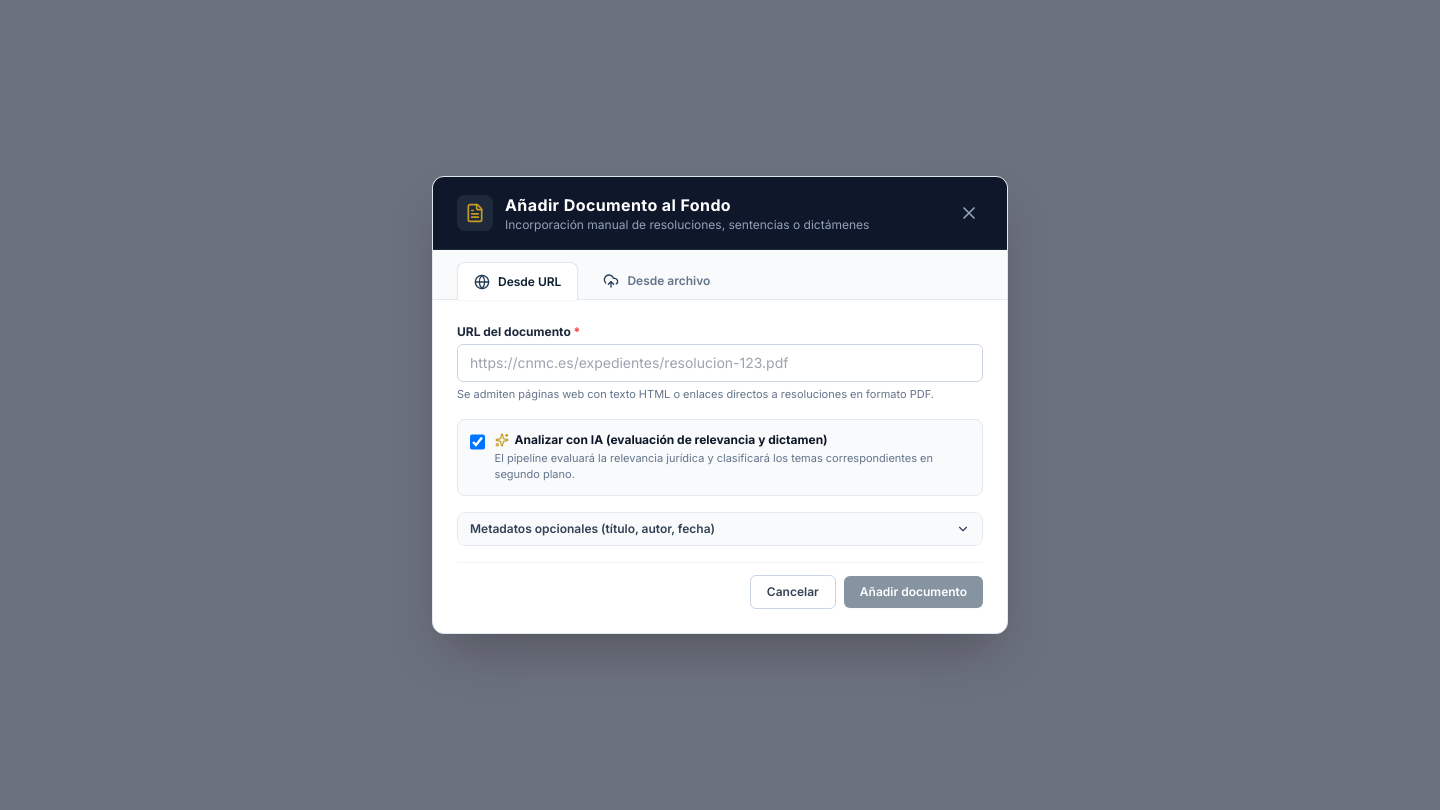
Test case: Manual Document Ingestion (Bloque 11C Frontend) › 5. URL inválida muestra validación al enviar
This screenshot has width=1440, height=810.
Step 1. Type "ftp://invalido.org" into the field labelled "URL del documento *" → (720, 363), box [457,344,983,382]
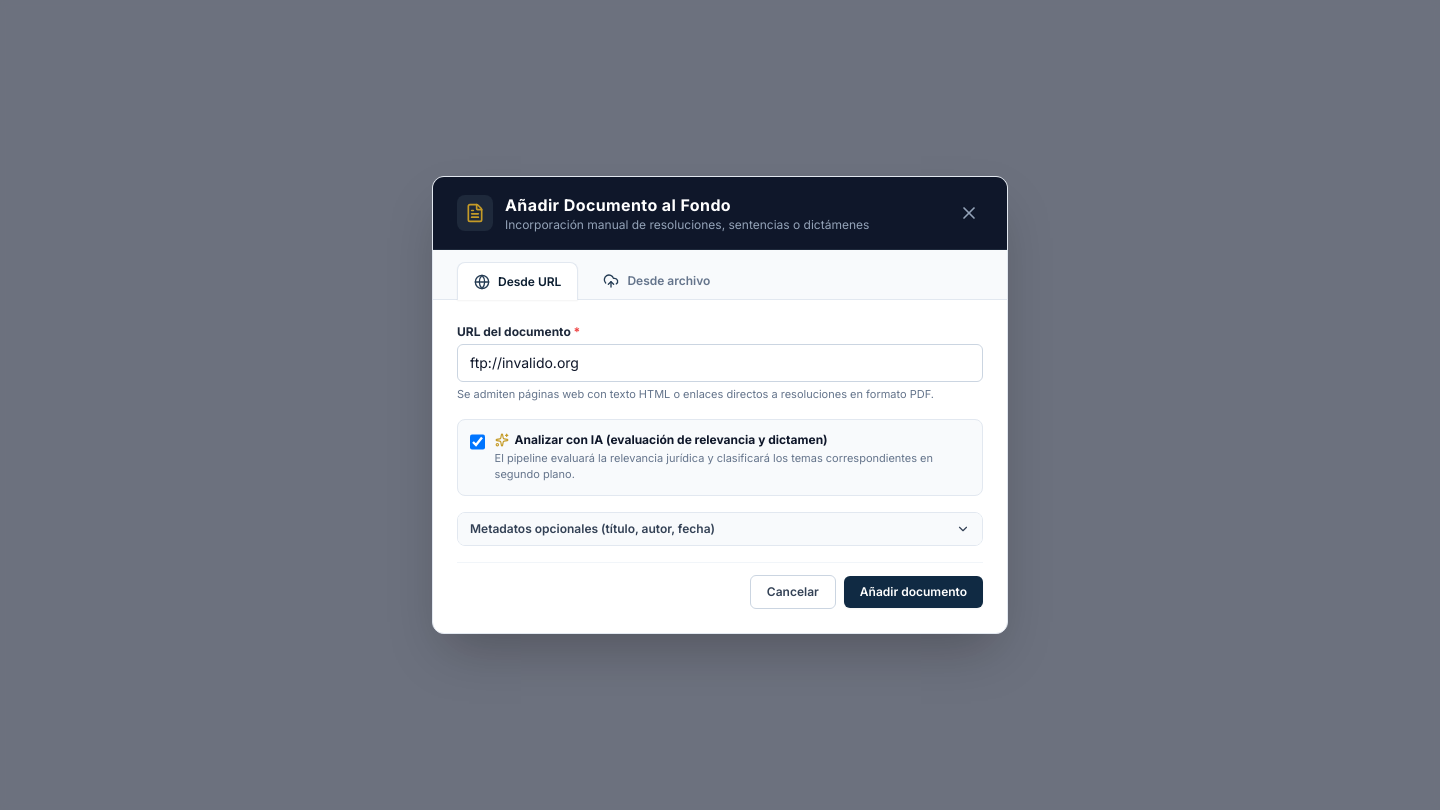
Step 2. Click the button "Añadir documento" → (913, 592), box [844,576,983,608]
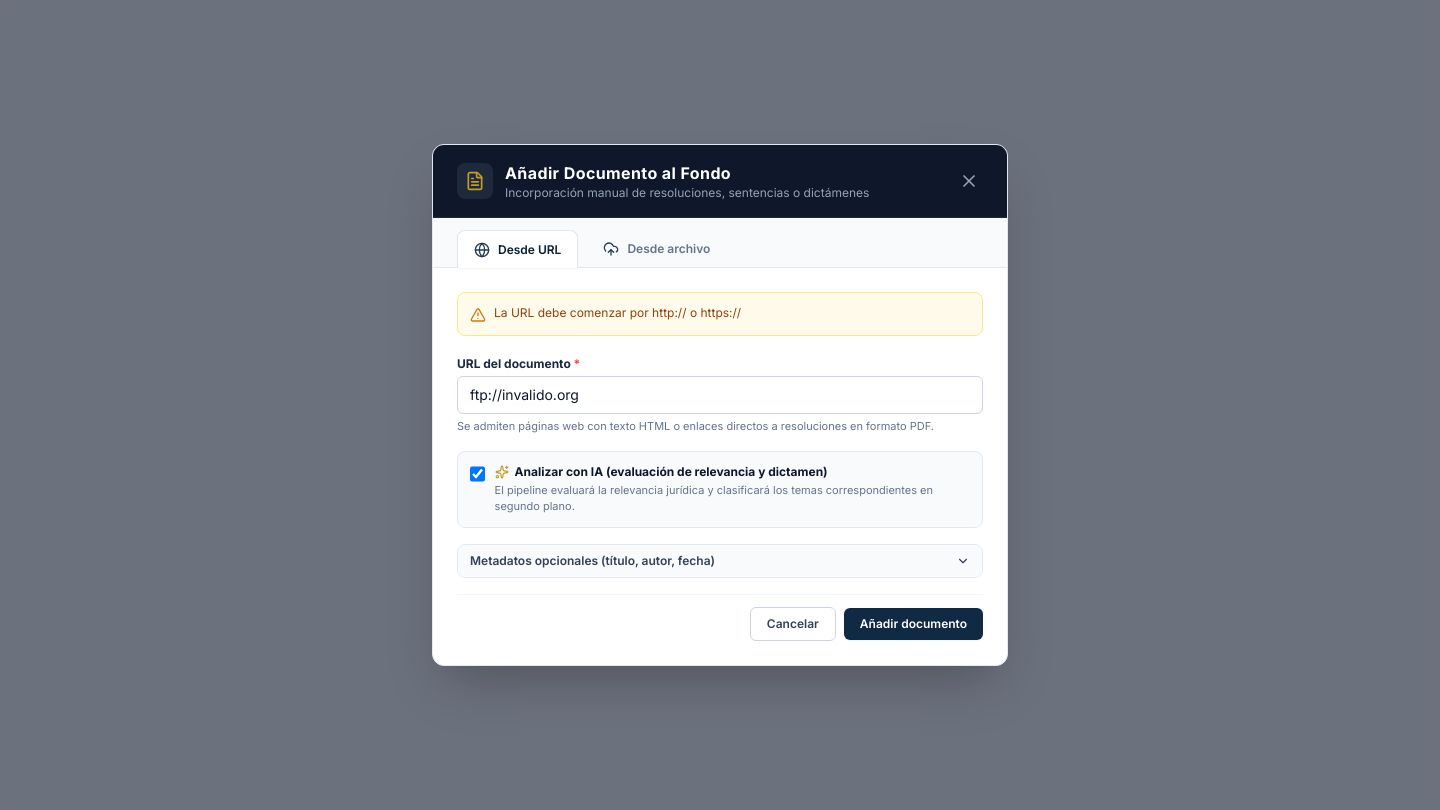
Result: the text "La URL debe comenzar por http:// o https://" is shown at [494,305,741,321]
